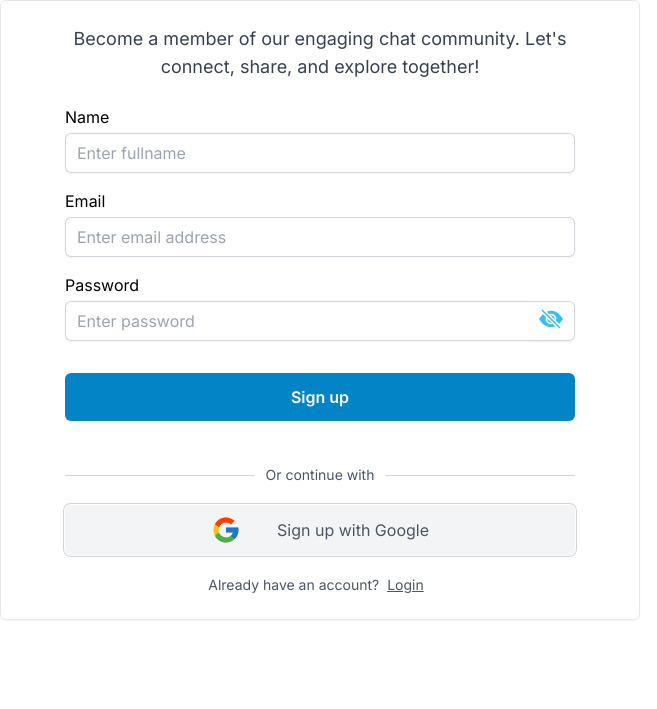
Auth-form component › confirm validation on empty field inputs
The width and height of the screenshot is (657, 709).
Click the button "Sign up" at [320, 397], box [65,373,575,421]
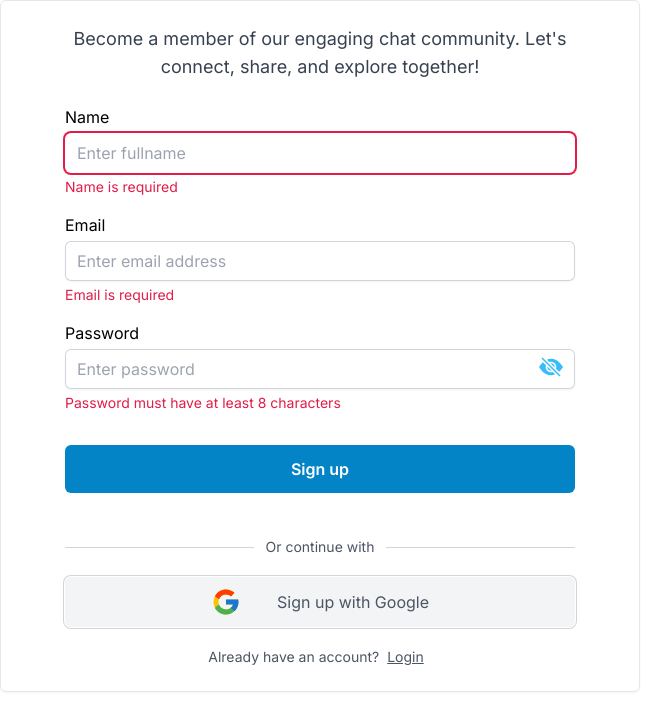
Expected: the text "Name is required" is shown, [65,178,178,195]
Expected: the text "Email is required" is shown, [65,286,174,303]
Expected: the text "Password must have at least 8 characters" is shown, [65,394,341,411]
